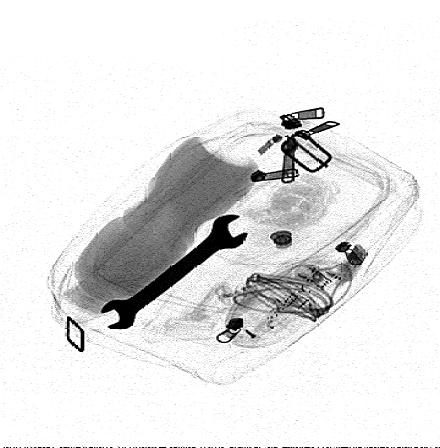Wrench: (100, 213, 249, 331)
